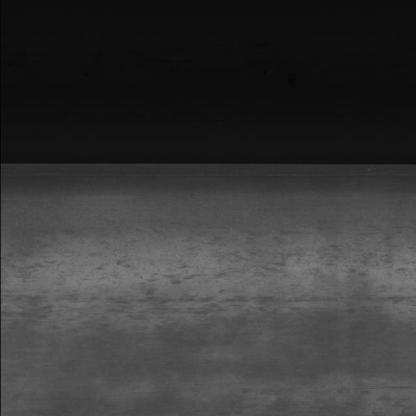silk_spot: (202, 233, 312, 308)
